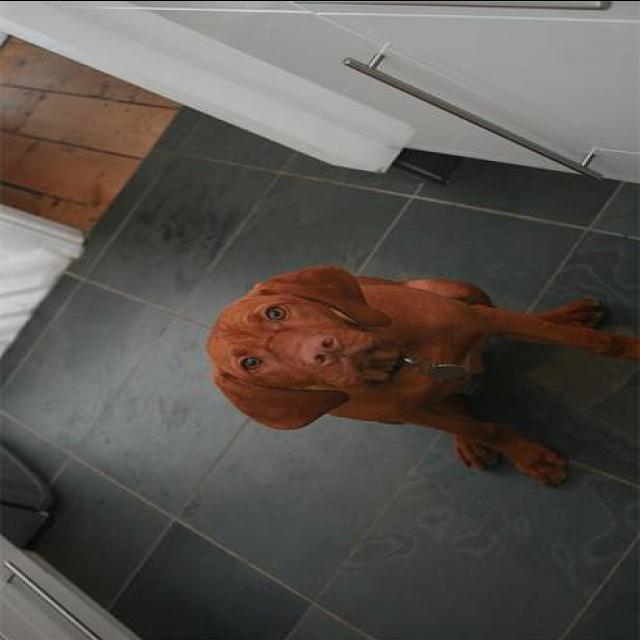vizsla: (208, 264, 638, 488)
